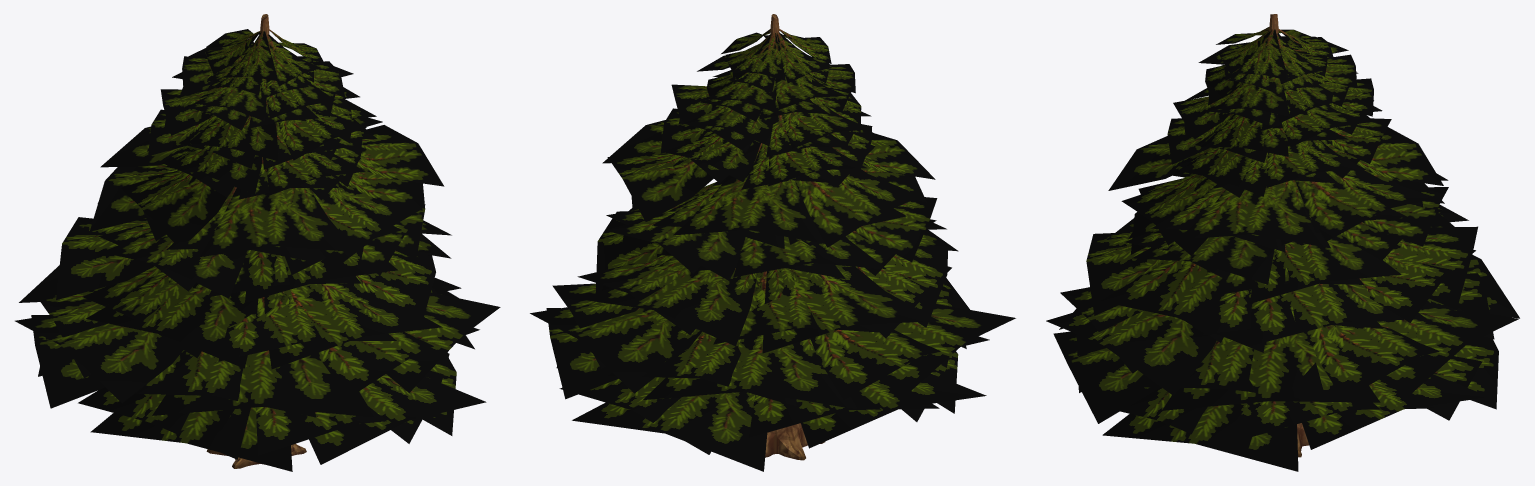
Rendered from ChristmasTree.FBX.
3 renders of one model, left to right at view 1: azimuth 30°, elevation 25°; view 2: azimuth 150°, elevation 25°; view 3: azimuth 270°, elevation 25°, orthographic. The views are drawn at different scales.
Visible parts, largest first — view 1: ChristmasTree; view 2: ChristmasTree; view 3: ChristmasTree.
Boxes of the visible parts, box(x1,y1,x2,y2) form: ChristmasTree: box(15, 14, 500, 471); ChristmasTree: box(530, 14, 1015, 471); ChristmasTree: box(1046, 14, 1519, 471).
Size of the model in its own units: 90.18 by 86.98 by 87.48.
